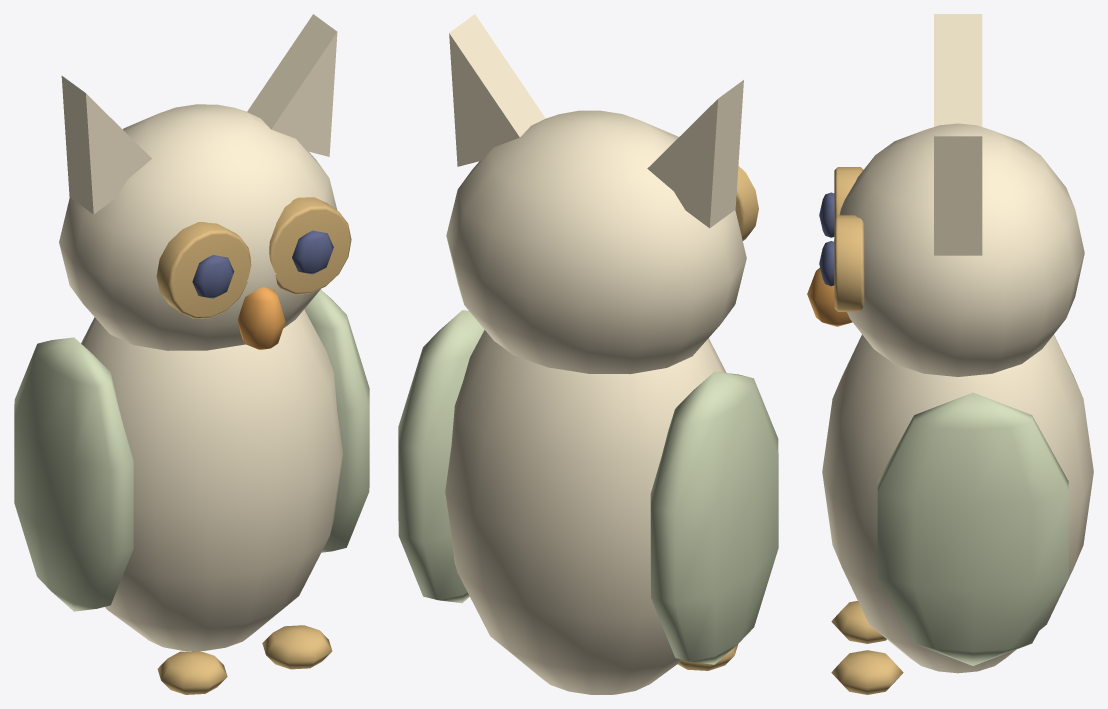
File: Owl_Figurine.fbx
3 renders of one model, left to right at view 1: azimuth 30°, elevation 25°; view 2: azimuth 150°, elevation 25°; view 3: azimuth 270°, elevation 25°, orthographic. The views are drawn at different scales.
Visible parts, largest first — view 1: Owl_Figurine_Mesh; view 2: Owl_Figurine_Mesh; view 3: Owl_Figurine_Mesh.
Boxes of the visible parts, x1,y1,x2,y2 form: Owl_Figurine_Mesh: (14,14,369,694); Owl_Figurine_Mesh: (398,14,778,694); Owl_Figurine_Mesh: (807,14,1093,694).
Bounding box in the file's own units: 0.1185 × 0.215 × 0.095.
